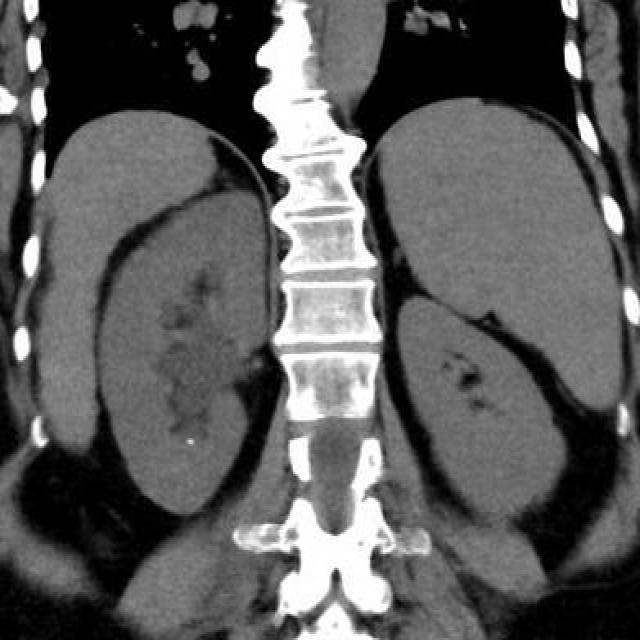Tas_Var: (184, 434, 199, 450)
